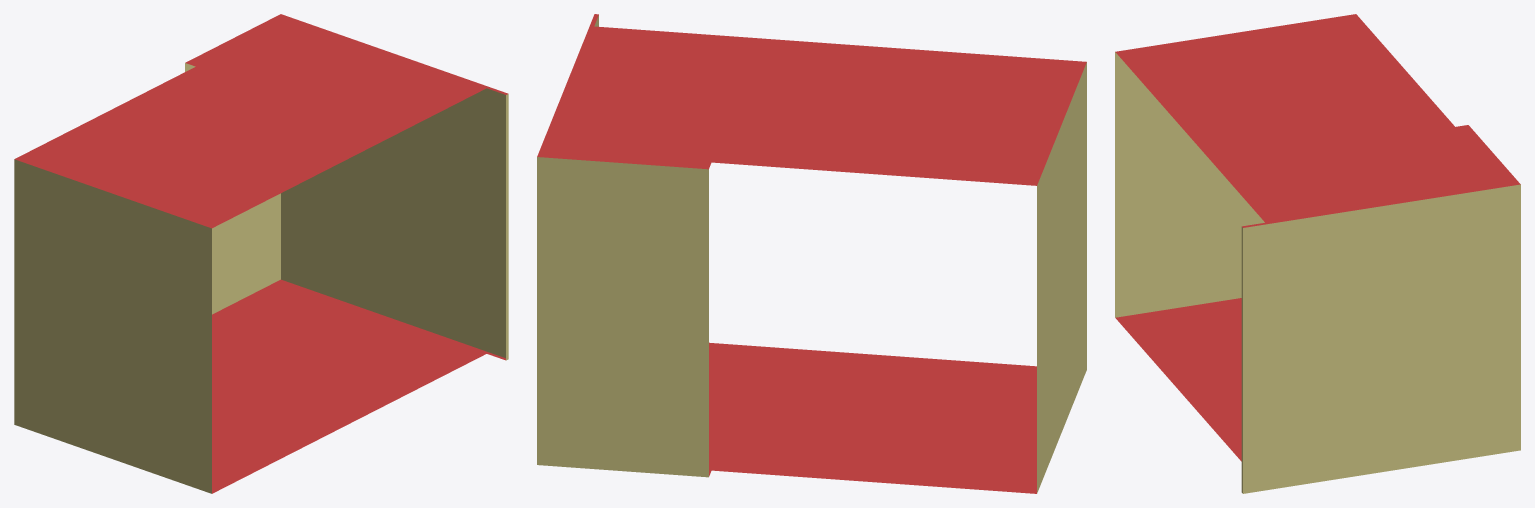
3 views of the same model, side by side, from view 1: azimuth 30°, elevation 25°; view 2: azimuth 150°, elevation 25°; view 3: azimuth 270°, elevation 25° (orthographic). The views are drawn at different scales.
Size of the model in its own units: 11.2 by 8.97 by 6.49.
